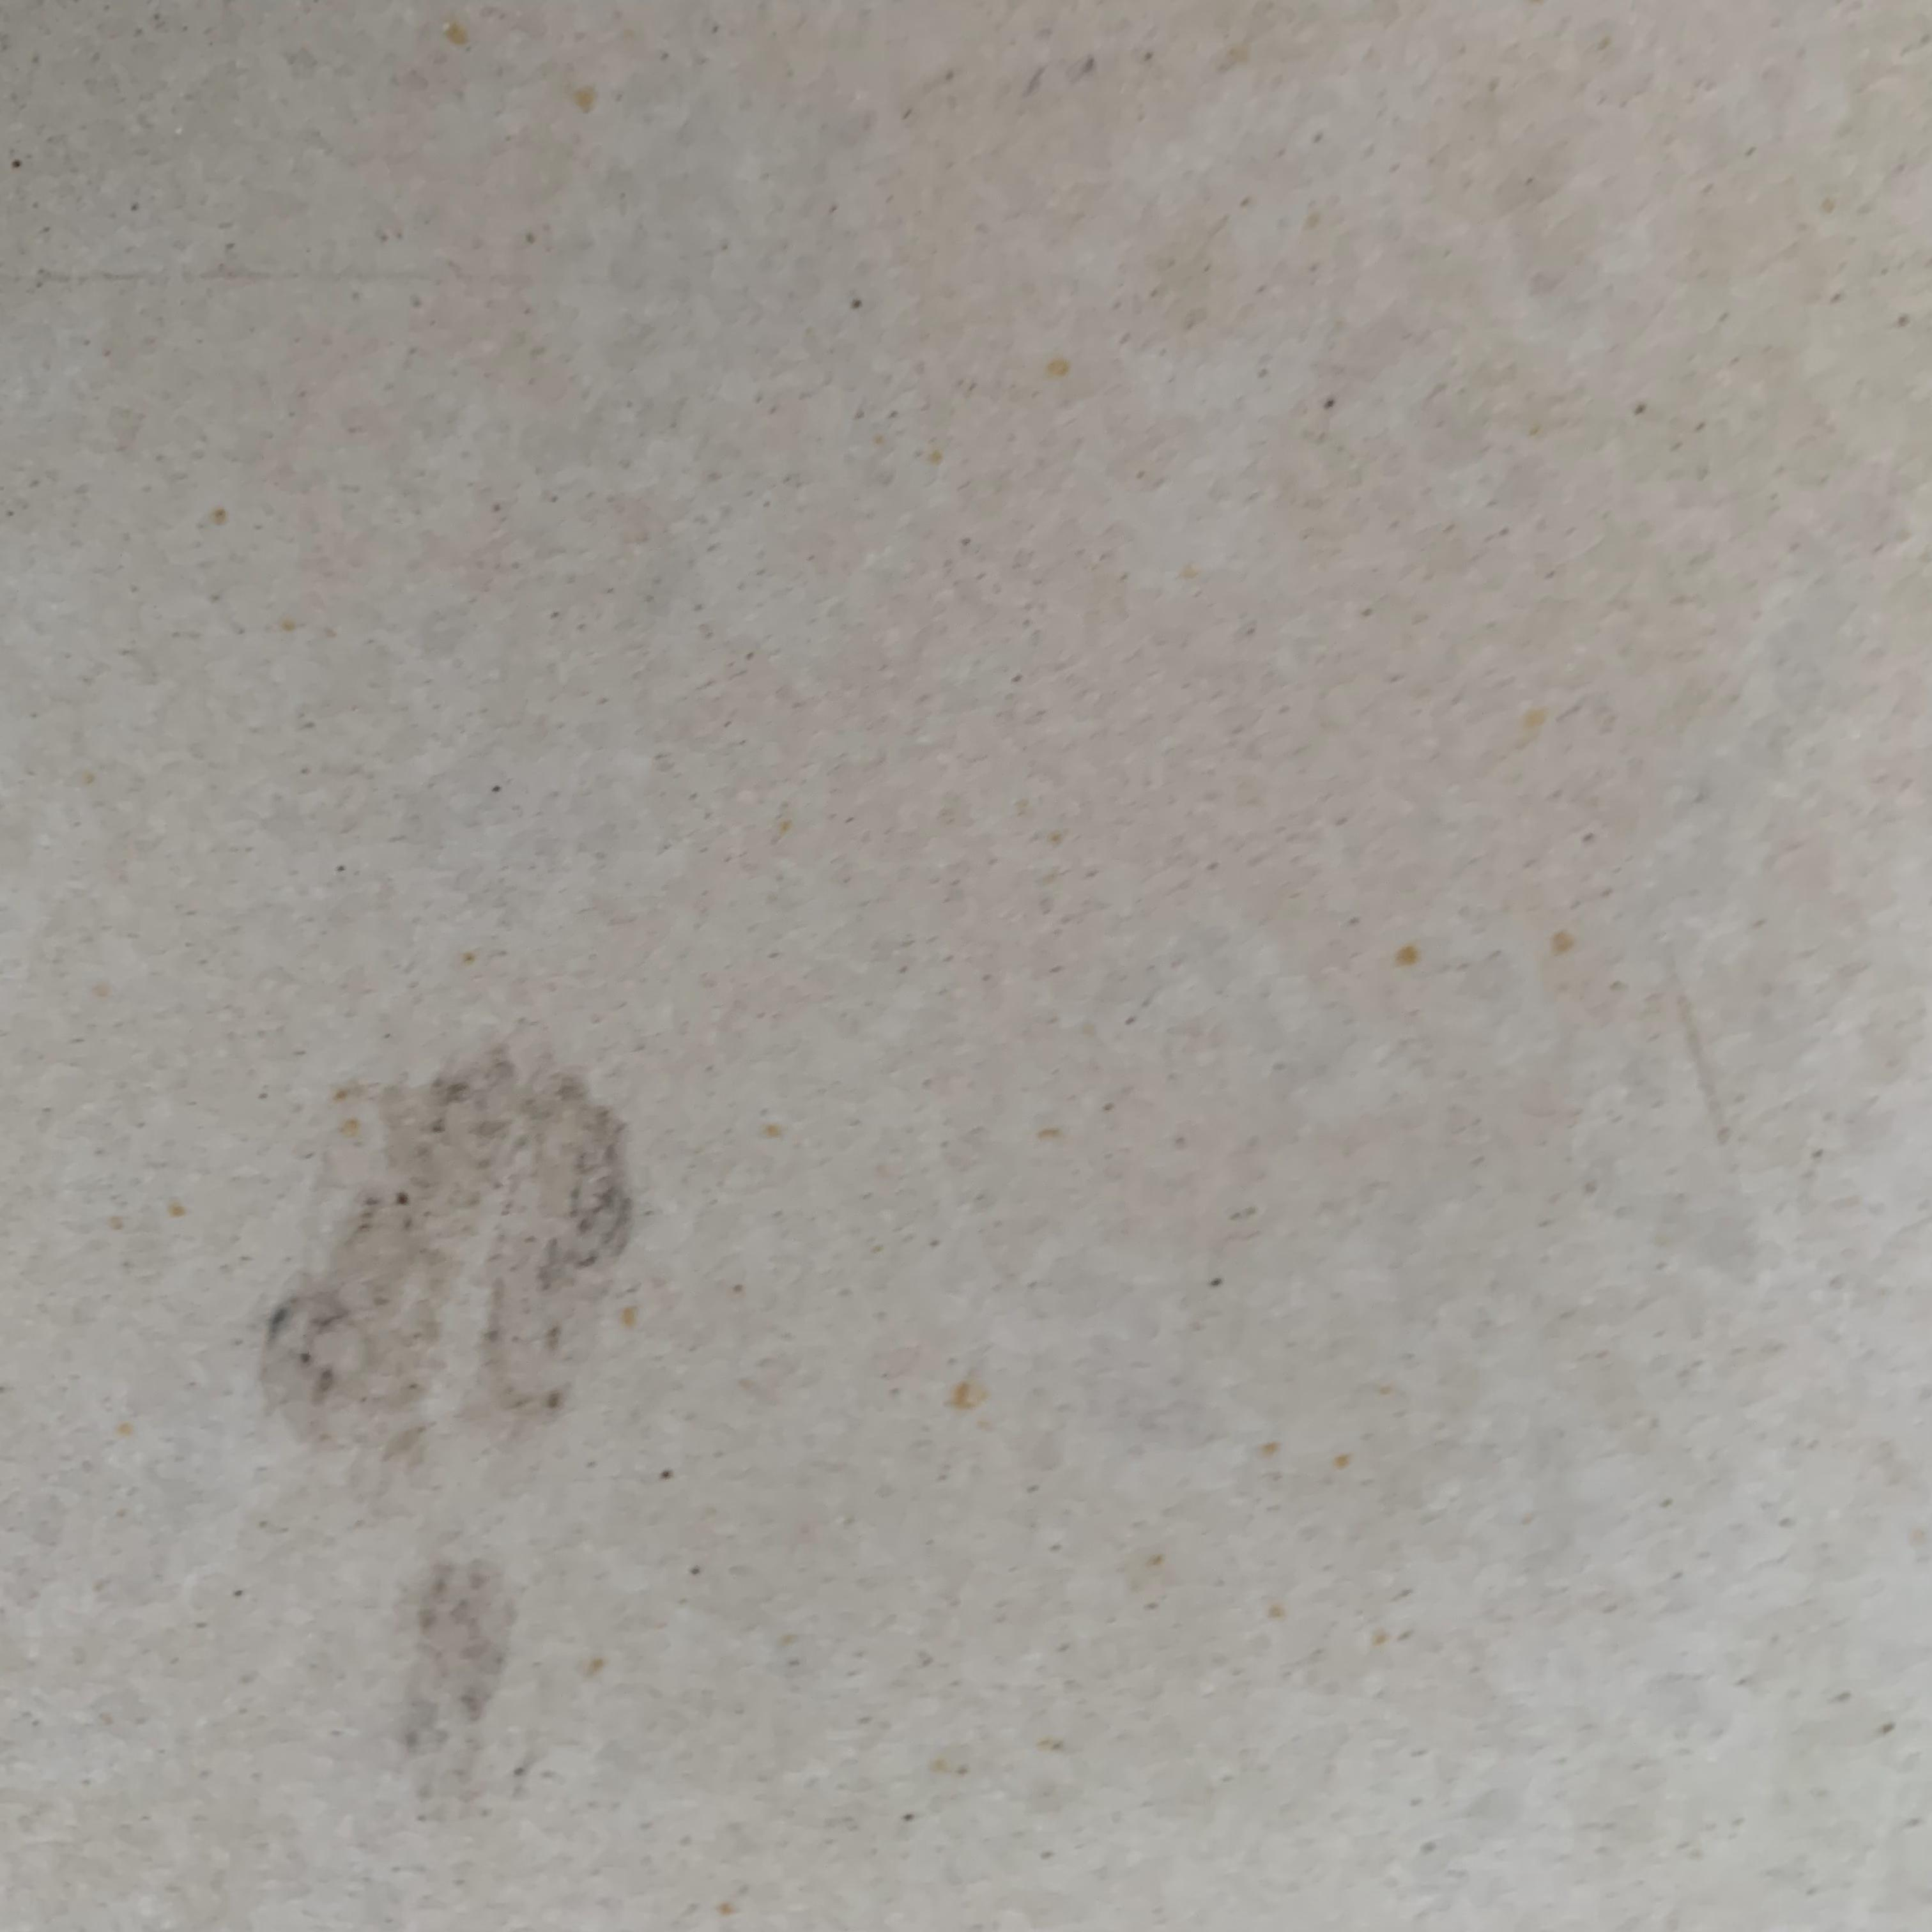grey spot: (260, 1040, 632, 1493), (400, 1555, 511, 1821)
